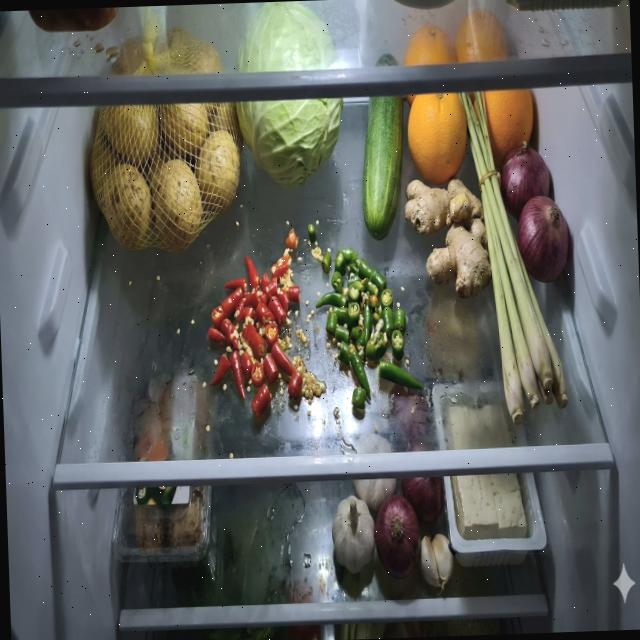cabbage: (232, 0, 346, 191)
chili: (314, 244, 424, 412), (204, 254, 304, 419)
cucumber: (357, 52, 408, 241)
garlic: (329, 478, 400, 574), (420, 532, 454, 590)
ginger: (402, 176, 492, 300)
lemongrass: (456, 88, 568, 428)
onion: (499, 139, 570, 285), (374, 493, 422, 579)
orange: (406, 92, 469, 187), (472, 88, 535, 170), (452, 8, 508, 62), (402, 24, 456, 66)
potato: (85, 26, 247, 256)
tofu: (448, 402, 528, 541)
